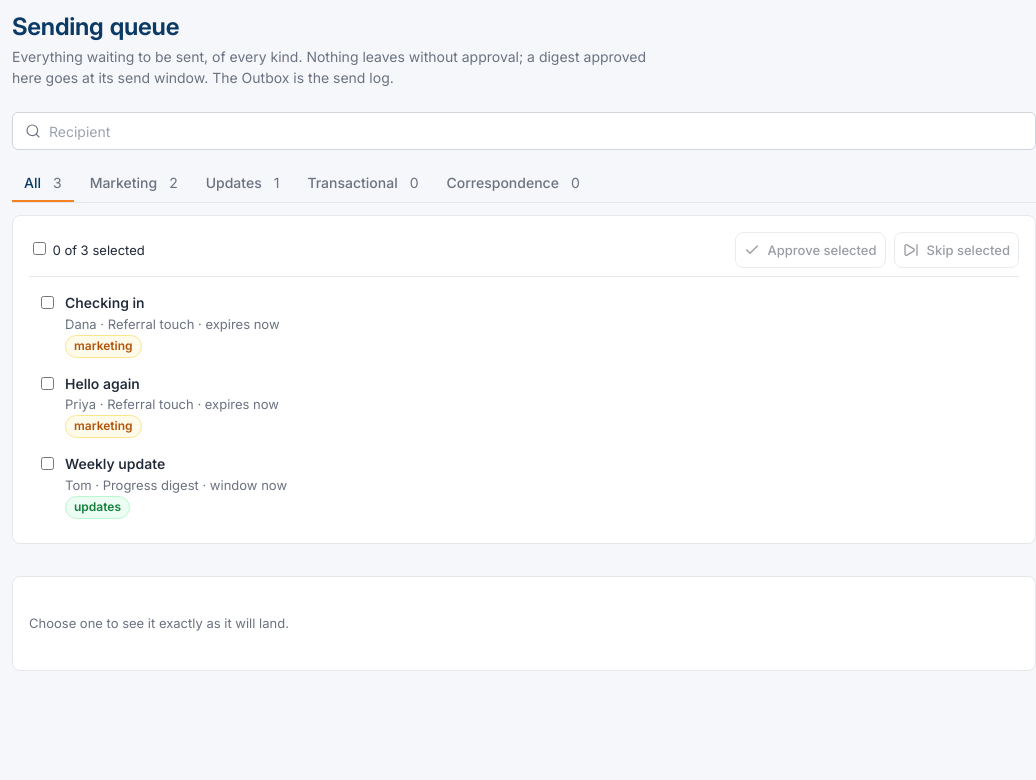
Scenario: the sending queue › filters by recipient
This screenshot has width=1036, height=780.
Type "tom" into the field named "Filter by recipient" at (536, 131), box [49,113,1023,149]
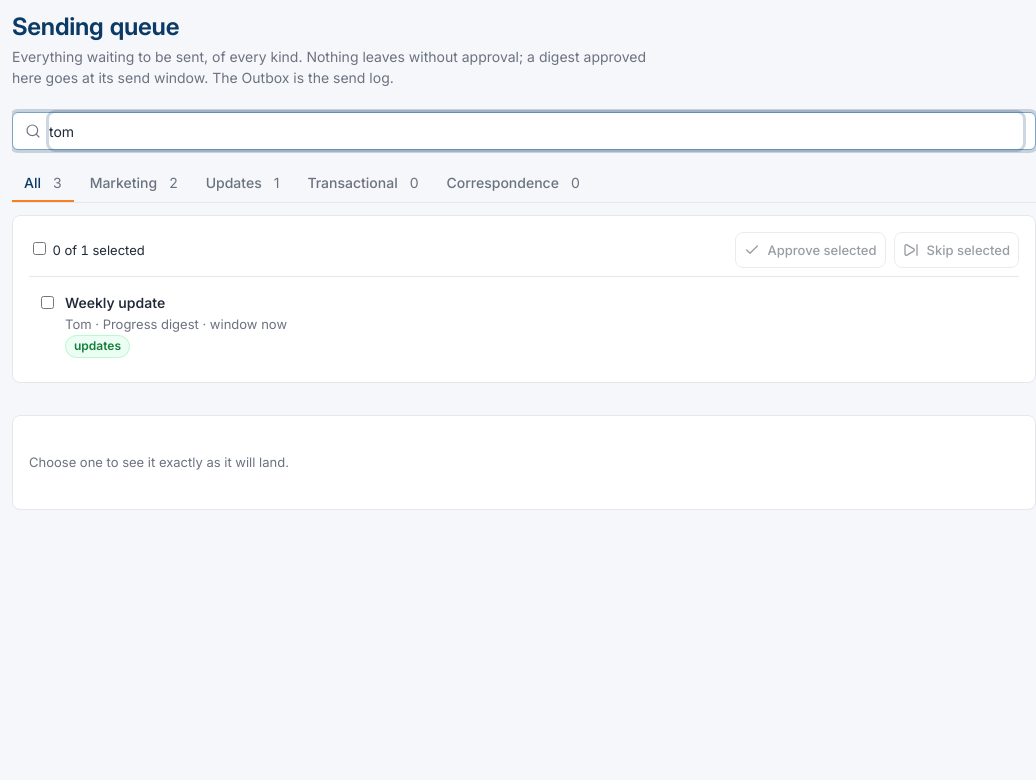
Expected: the text "Weekly update" is shown, [65,293,165,313]
Now the button "Checking in" is gone
